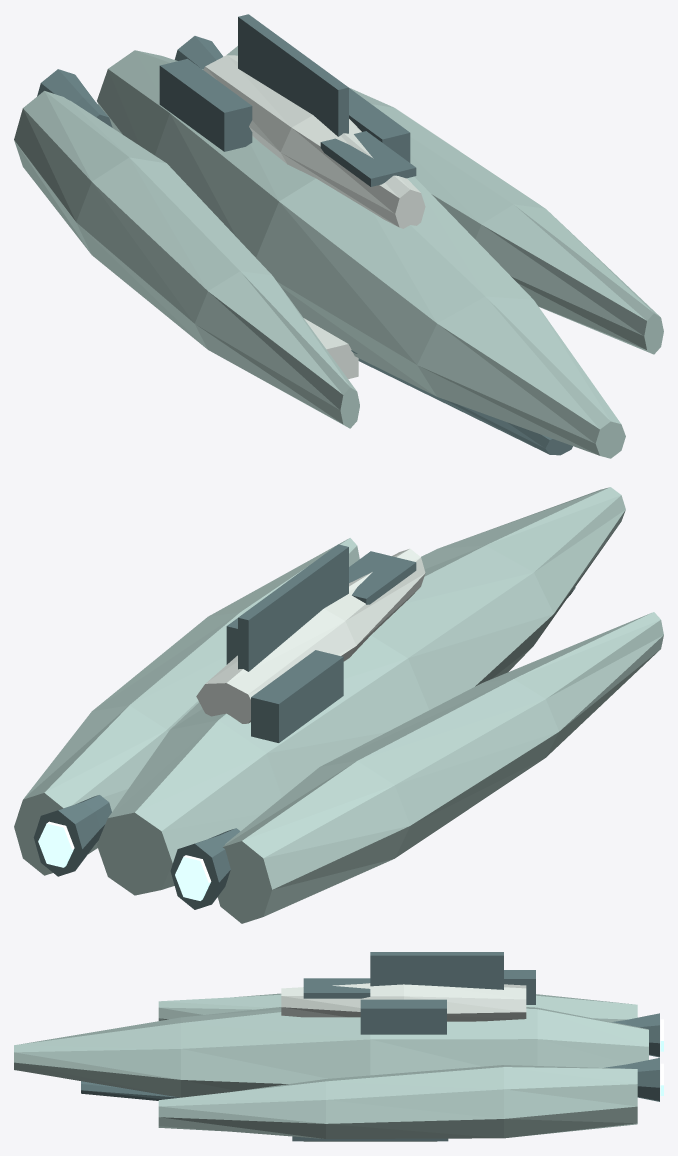
3 views of the same model, one above another, from view 1: azimuth 30°, elevation 25°; view 2: azimuth 150°, elevation 25°; view 3: azimuth 270°, elevation 25° (orthographic). The views are drawn at different scales.
Size of the model in its own units: 7.81 by 4.89 by 18.08.
